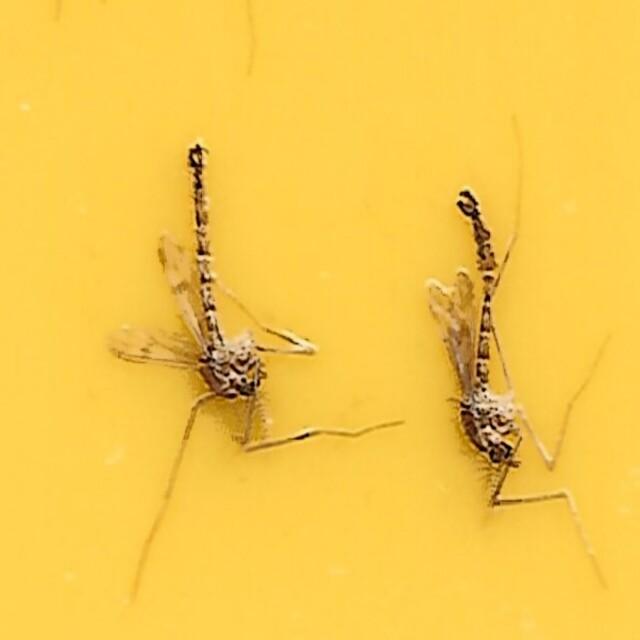Nematocera: (106, 144, 268, 424), (431, 180, 534, 496)
